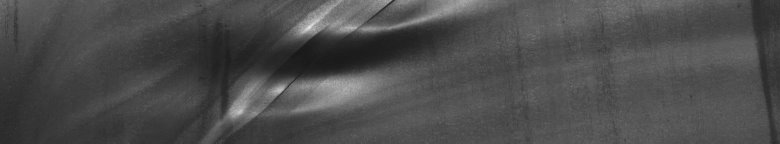ke: (224, 4, 438, 117)
